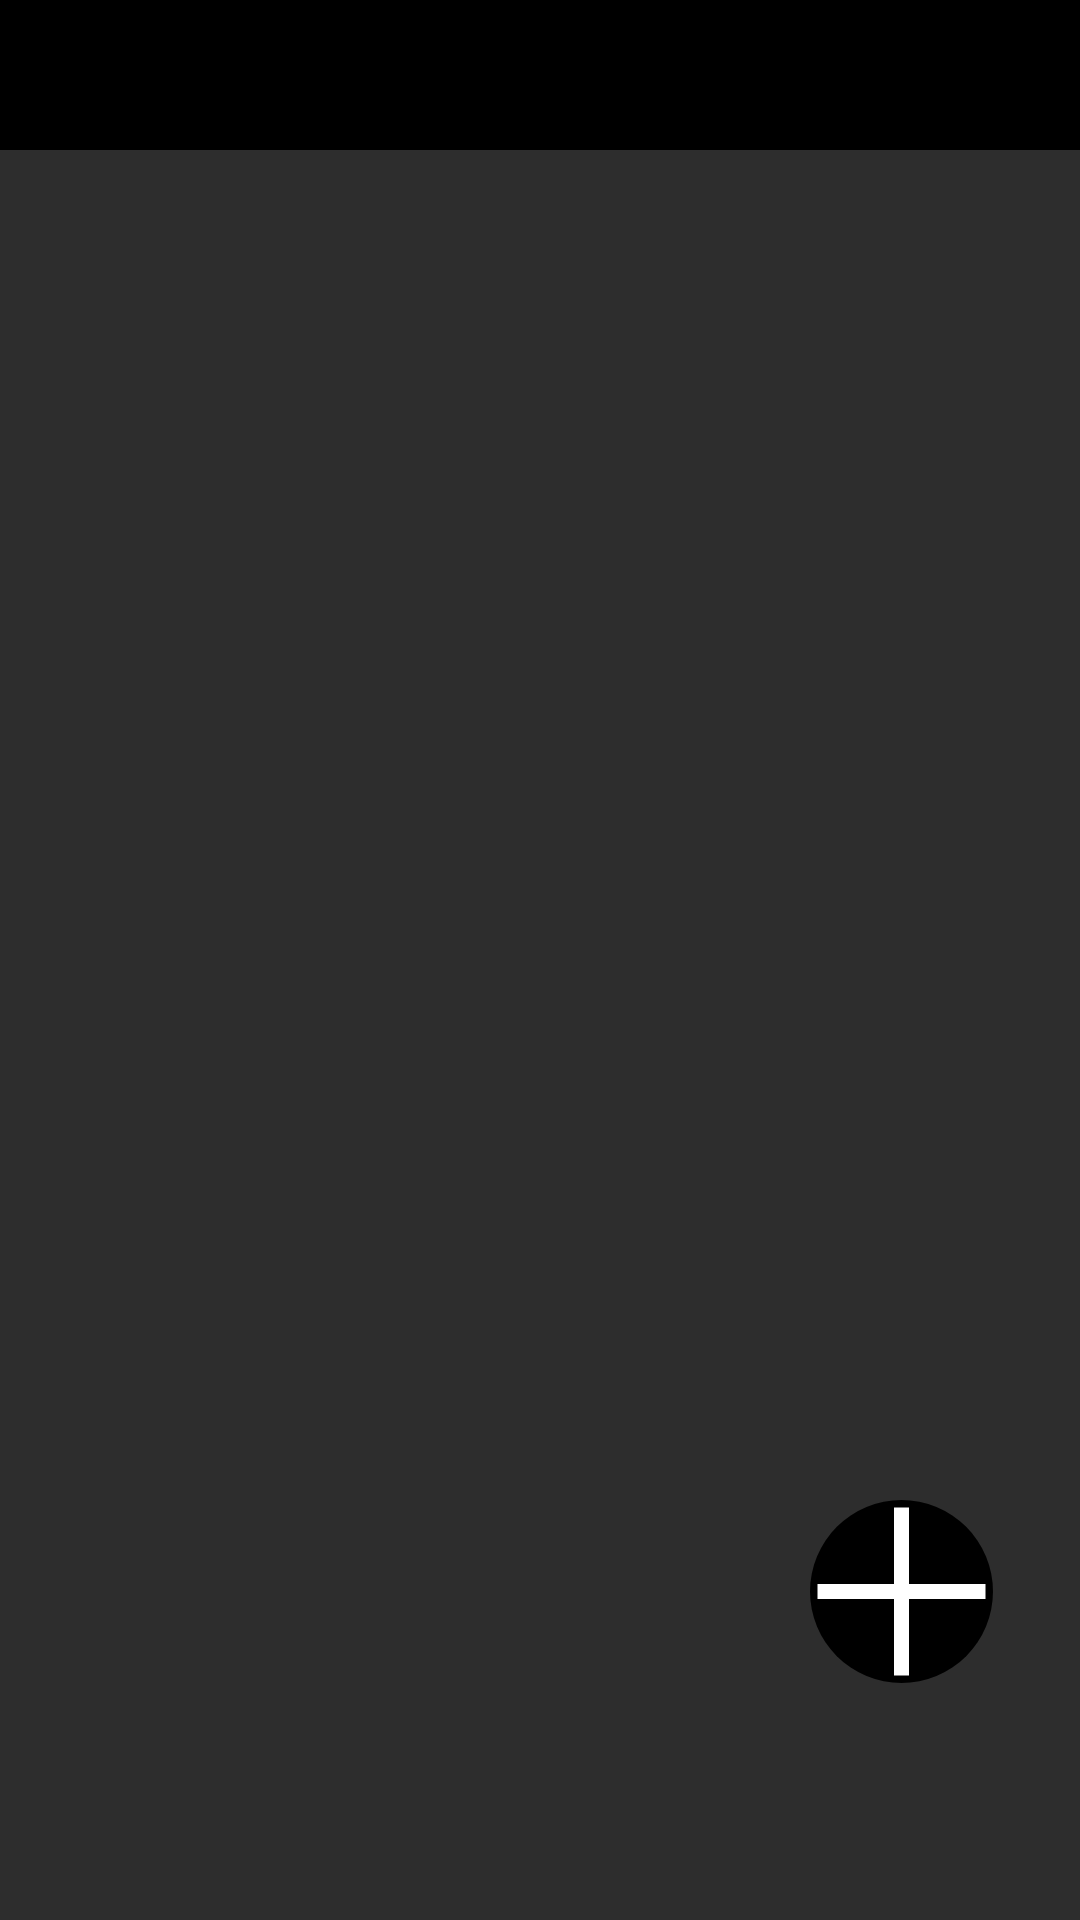

Point at icon controls on the screen. Image size 1080 × 1920, points as point (x, y).
add round: point (901, 1591)
